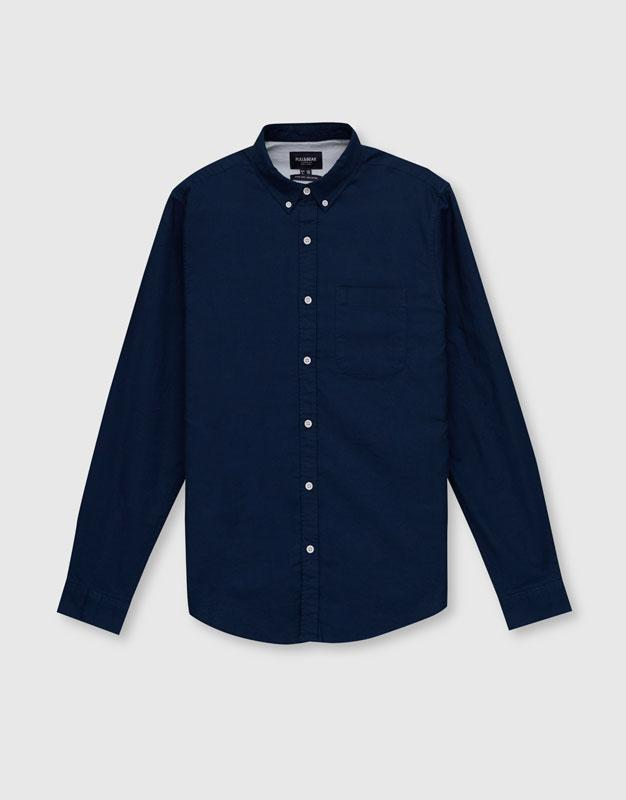teeshirt: (56, 114, 579, 692)
